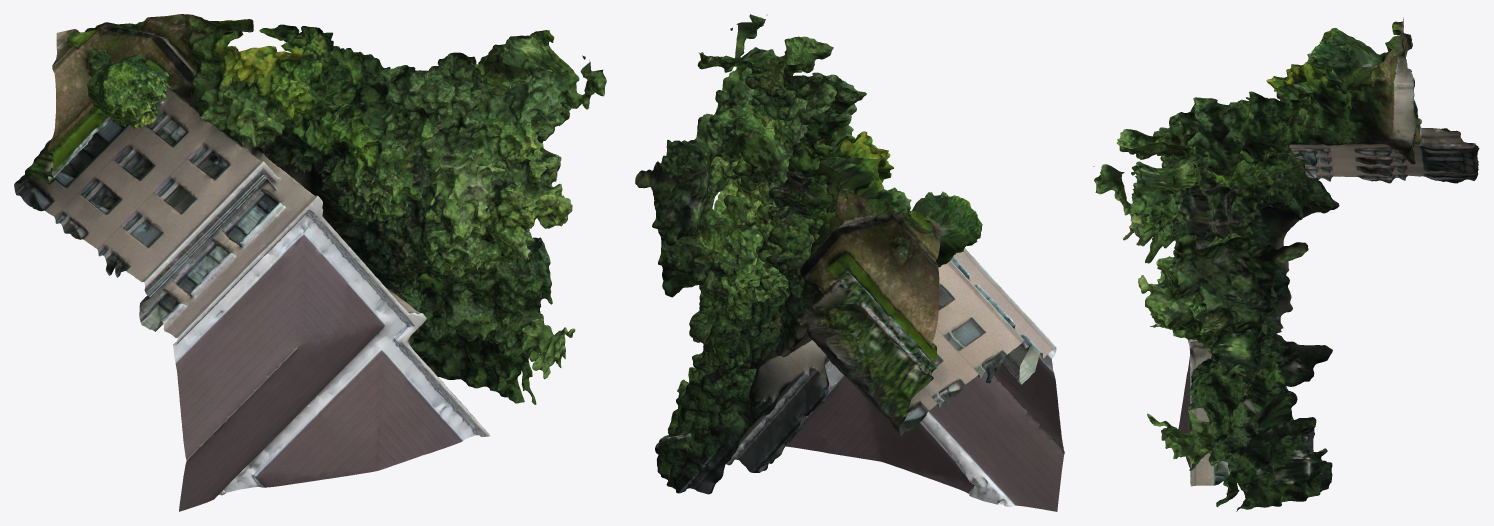
Rendered from Tile_+009_+025.fbx.
3 views of the same model, side by side, from view 1: azimuth 30°, elevation 25°; view 2: azimuth 150°, elevation 25°; view 3: azimuth 270°, elevation 25° (orthographic). The views are drawn at different scales.
Visible parts, largest first — view 1: DefaultName; view 2: DefaultName; view 3: DefaultName.
Part boxes in pixels (bbox=[...]): DefaultName: bbox=[14, 14, 606, 511]; DefaultName: bbox=[635, 14, 1064, 511]; DefaultName: bbox=[1093, 17, 1479, 511].
Size of the model in its own units: 22.54 by 22.54 by 23.24.
